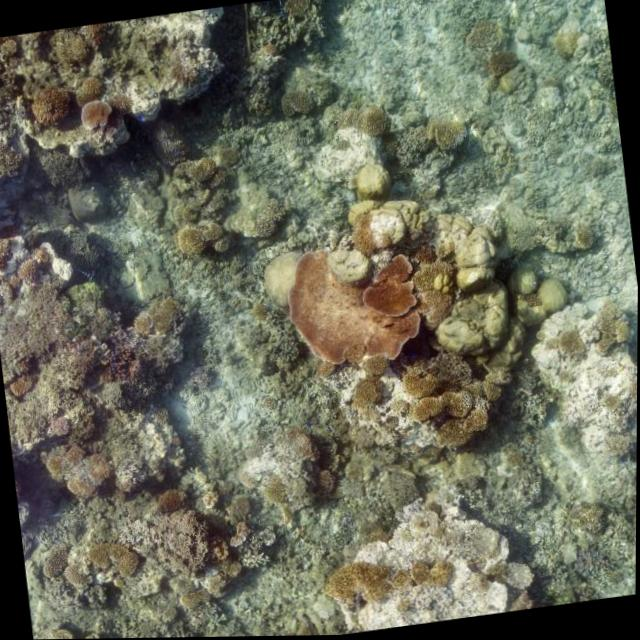Bleached Coral: (368, 213, 400, 235), (449, 133, 467, 149)
Dead Coral: (86, 23, 109, 58)
Healthy Coral: (278, 240, 426, 382), (397, 354, 507, 459), (320, 560, 396, 611), (131, 293, 196, 338), (260, 252, 302, 310), (81, 541, 143, 579), (28, 81, 72, 134), (391, 559, 453, 595), (37, 148, 87, 192), (588, 302, 631, 352), (173, 224, 233, 258), (14, 245, 57, 290), (186, 152, 230, 194), (48, 25, 90, 66), (71, 96, 116, 134), (350, 378, 386, 414), (276, 90, 319, 119), (286, 426, 321, 460), (354, 164, 391, 196), (245, 212, 280, 244), (483, 51, 519, 82), (0, 143, 27, 182), (551, 34, 581, 68), (361, 102, 388, 139), (555, 330, 584, 361), (39, 546, 62, 585), (155, 489, 191, 513), (263, 476, 287, 507), (314, 470, 340, 498), (227, 521, 251, 550), (571, 227, 597, 252), (9, 373, 35, 398), (64, 563, 88, 590), (207, 534, 229, 562), (0, 235, 17, 269), (221, 555, 243, 581), (283, 0, 315, 17), (178, 592, 210, 607), (150, 408, 172, 429), (0, 35, 19, 59), (232, 497, 254, 517), (200, 491, 223, 509), (210, 572, 226, 597)
